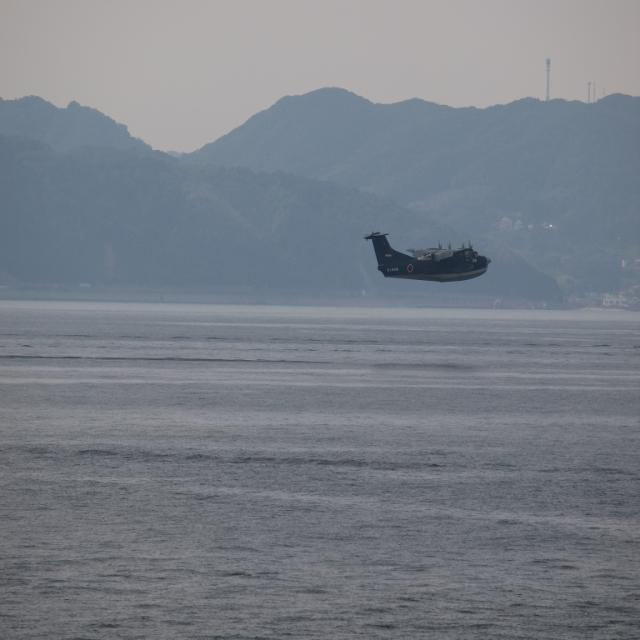MIL_Plane: (361, 231, 492, 282)
